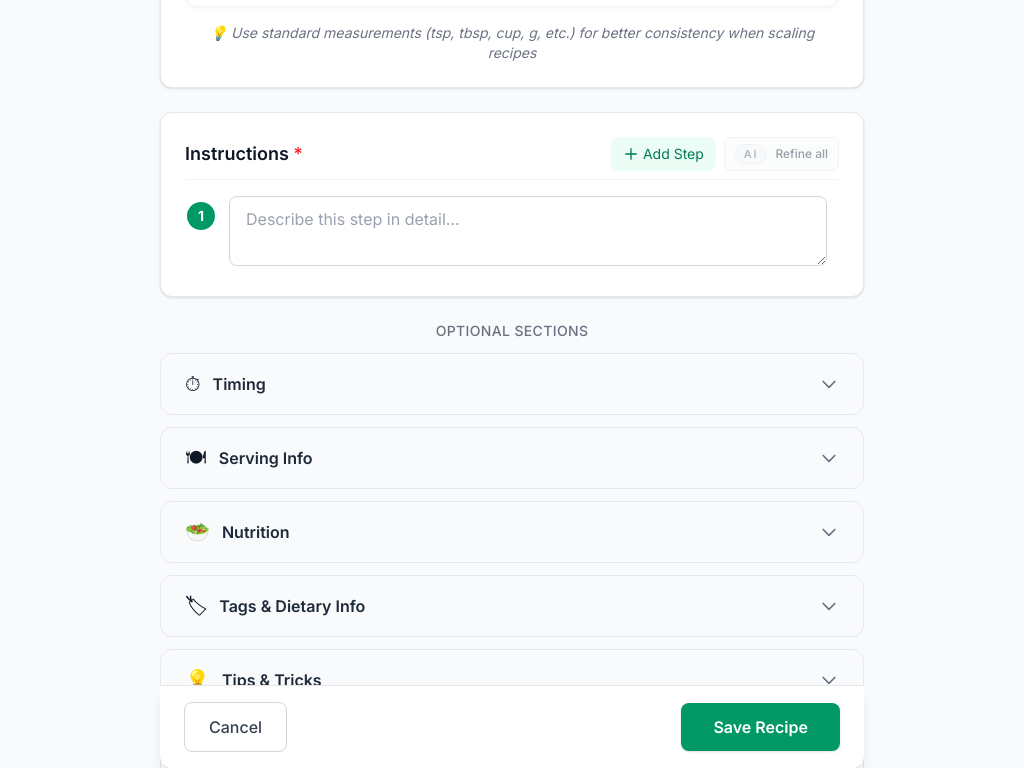
Test: SimpleCreateRecipe › expands Timing section when clicked
(page scrolled)
What coordinates should you click on to do the following:
click the button "⏱ Timing"
I would click on:
 (239, 384)
Its box is x1=161 y1=354 x2=863 y2=414.
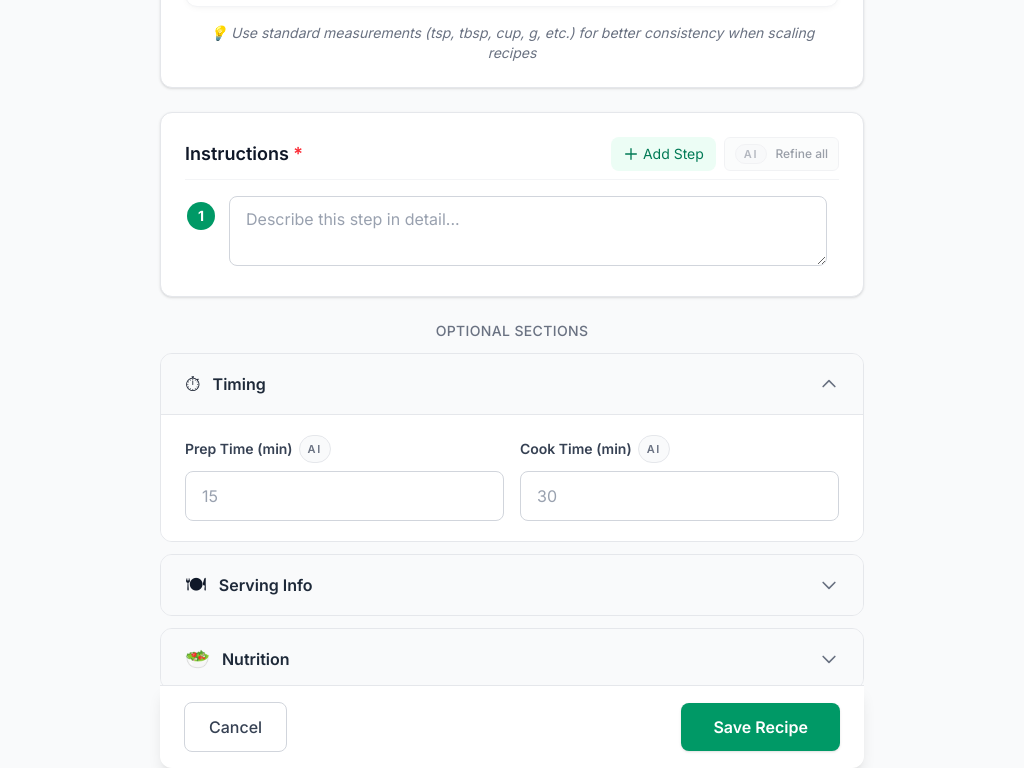
Expected: the button "⏱ Timing" is expanded, x1=161 y1=354 x2=863 y2=414
Expected: the number field labelled "Prep Time (min)" is shown, x1=185 y1=471 x2=504 y2=521
